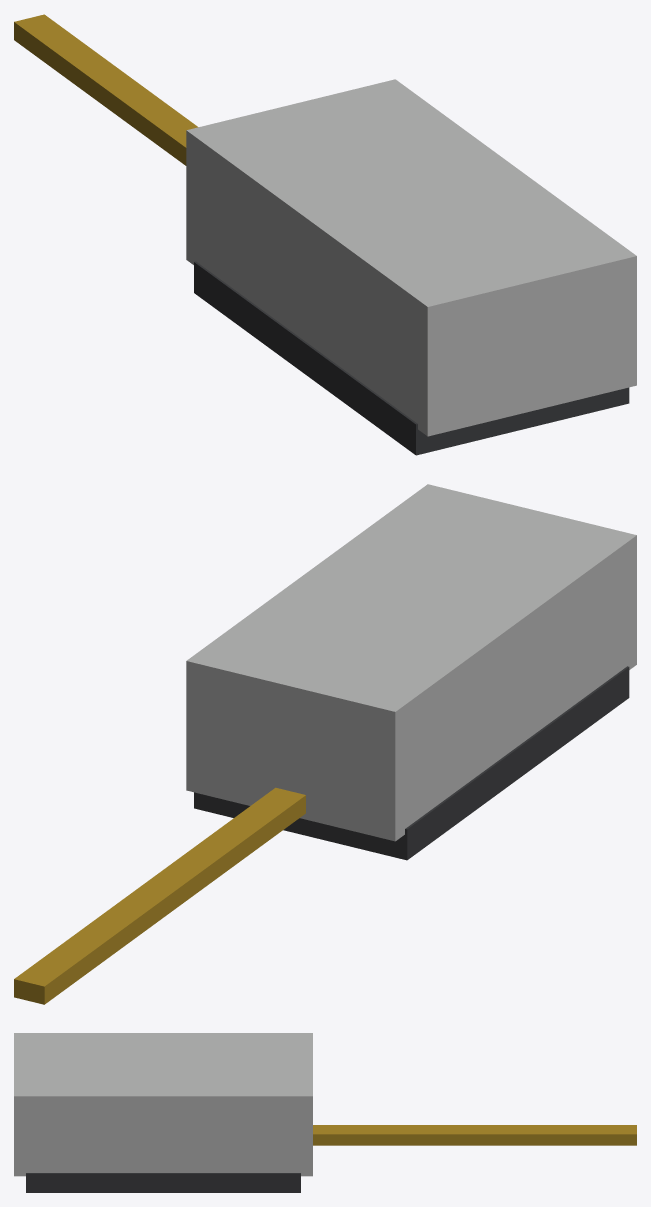
The model's file is sdsc_gse_reboque.glb.
The picture shows the model from 3 angles, top to bottom: view 1: azimuth 30°, elevation 25°; view 2: azimuth 150°, elevation 25°; view 3: azimuth 270°, elevation 25°; orthographic projection. The views are drawn at different scales.
Visible parts, largest first — view 1: sdsc_gse_reboque; view 2: sdsc_gse_reboque; view 3: sdsc_gse_reboque.
Boxes of the visible parts, box(x1,y1,x2,y2) form: sdsc_gse_reboque: box(14, 14, 636, 455); sdsc_gse_reboque: box(14, 484, 636, 1004); sdsc_gse_reboque: box(14, 1033, 636, 1192).
Size of the model in its own units: 2.45 by 1.7 by 10.
